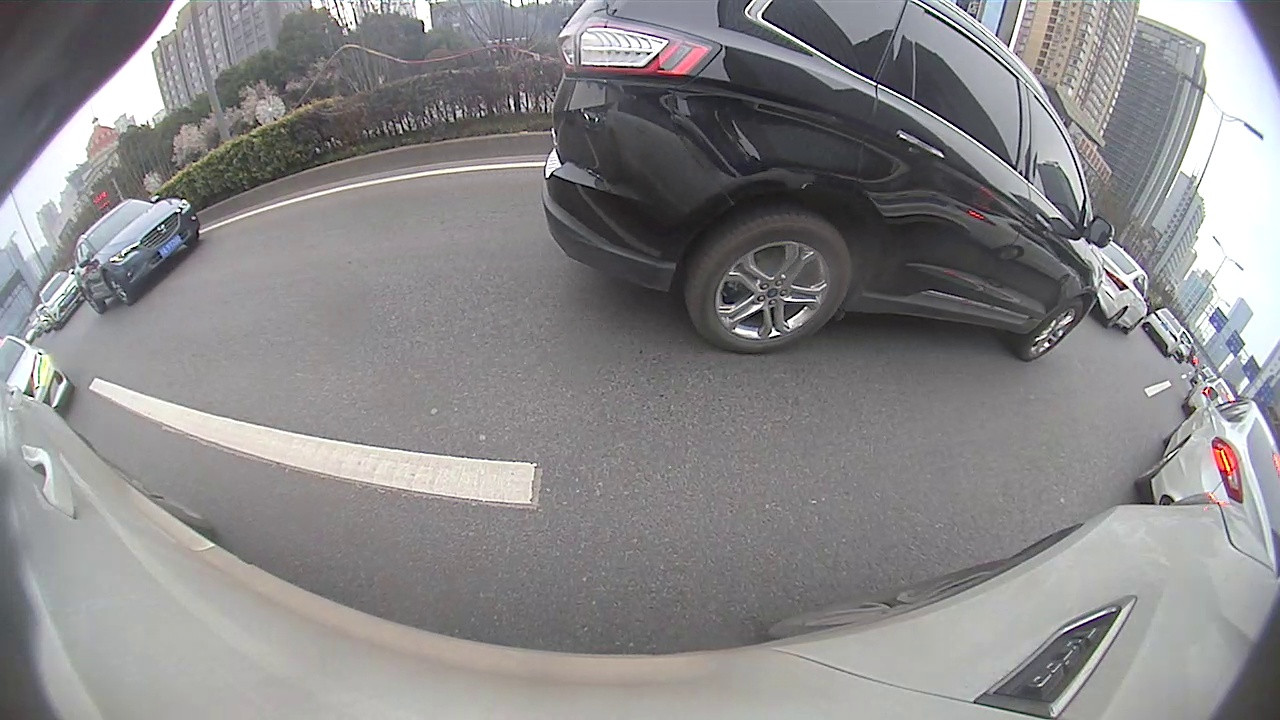car: (542, 1, 1115, 364), (1132, 397, 1279, 572), (71, 193, 202, 314), (1097, 235, 1149, 336), (37, 267, 83, 328), (1141, 304, 1183, 360)
front: (1021, 299, 1085, 361), (103, 272, 131, 307)
rear: (683, 215, 852, 353)
